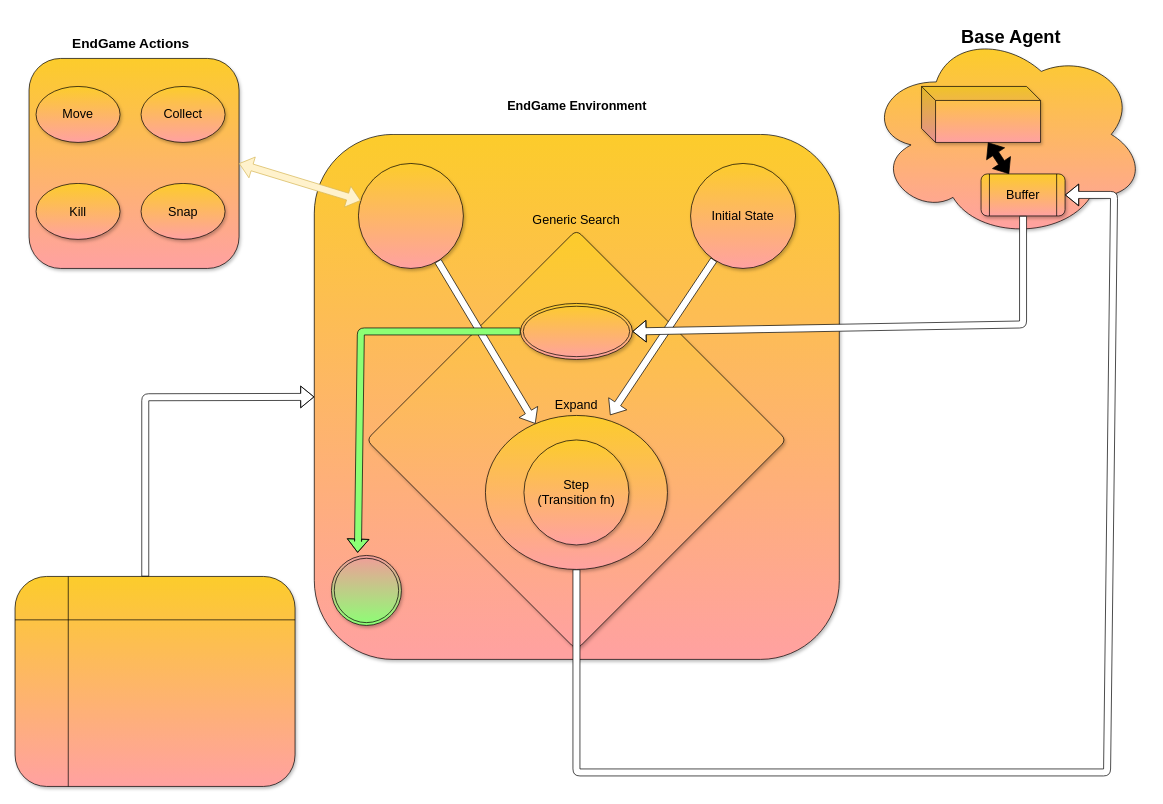
Some shapes in this 1163 by 804 pixel diagram are drawn without their labels. The centre of each missing label's shape, as x and y in pixels:
"Actions" belongs at (x=411, y=216).
"Current Node" belongs at (x=577, y=332).
"EndGame Universe Grid Representation Class" belongs at (x=155, y=682).
"Goal Test?" belongs at (x=367, y=591).
"Memory PreviousStates" belongs at (x=981, y=115).
